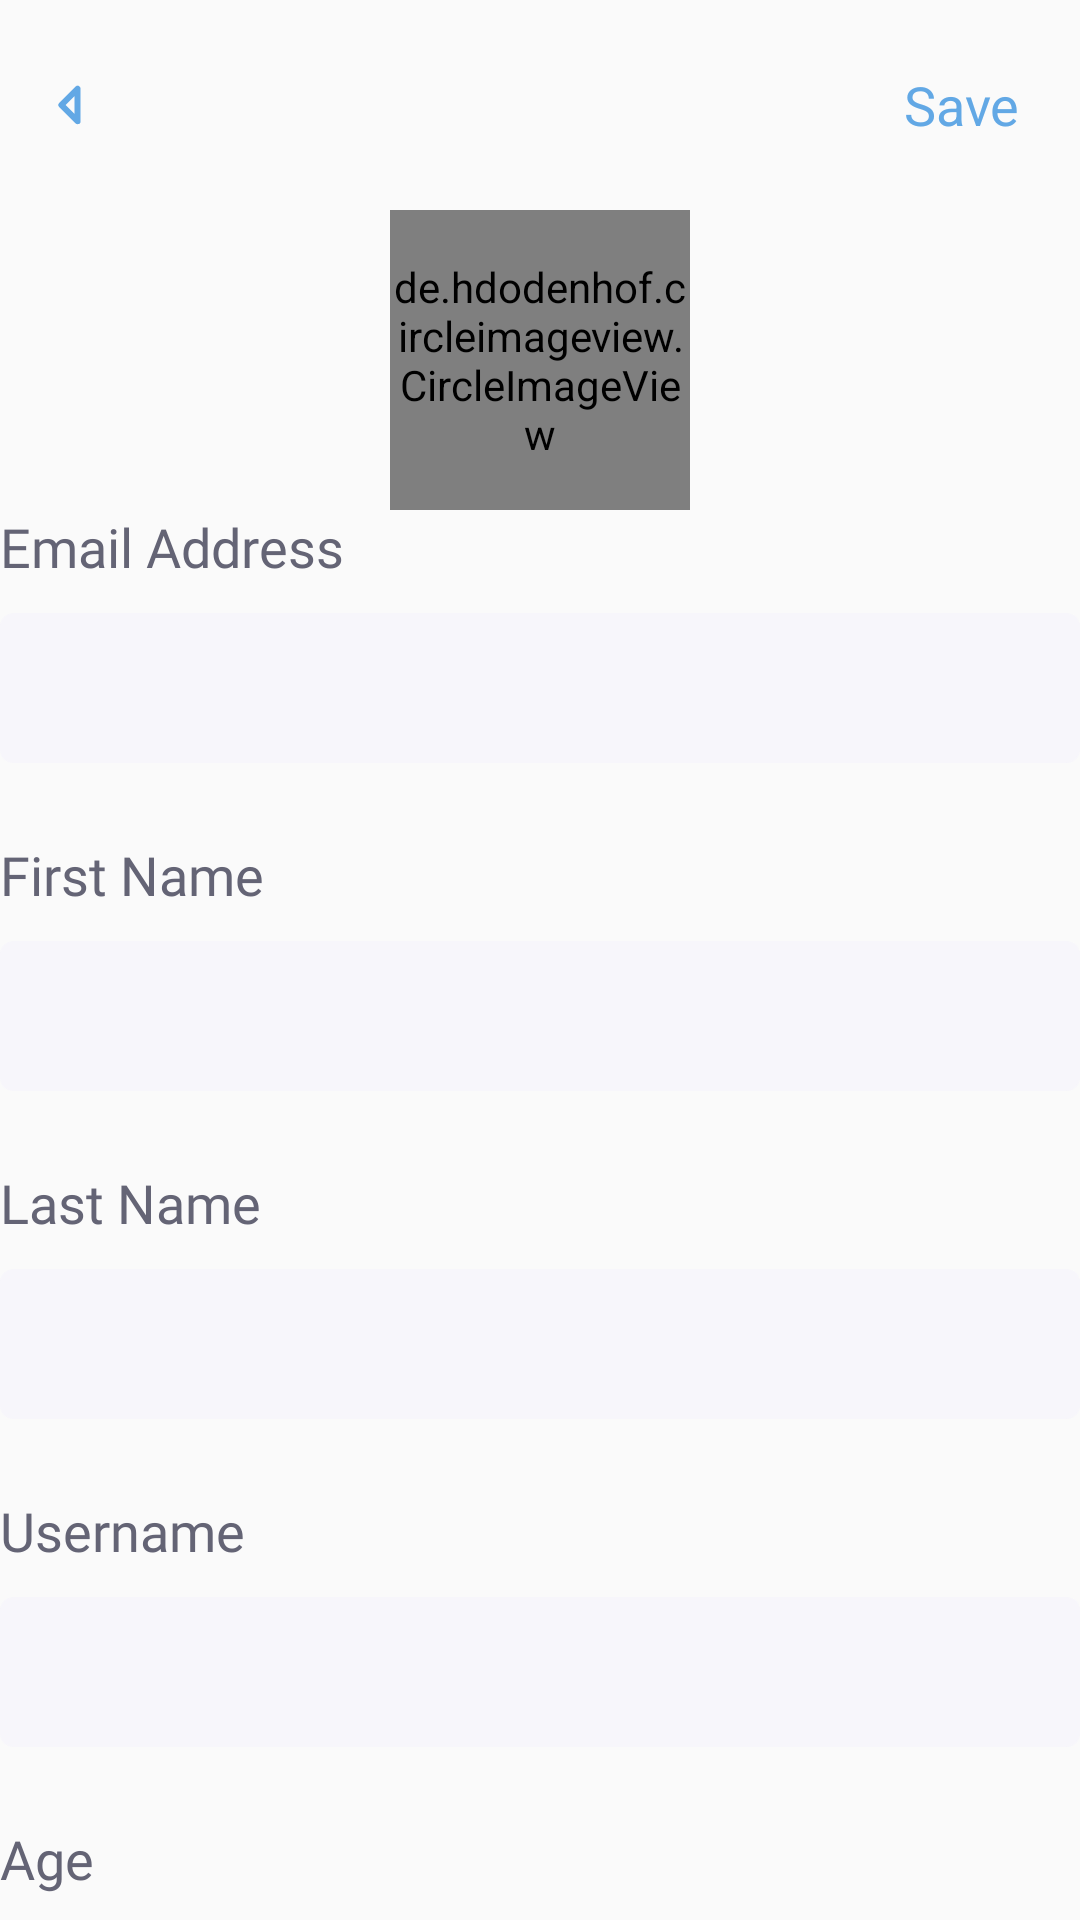

Named icons in this screenshot (1080px×1920px) and their bounding boxes, (x1, y1, x2, y2):
backbtn: (58, 85, 81, 125)
